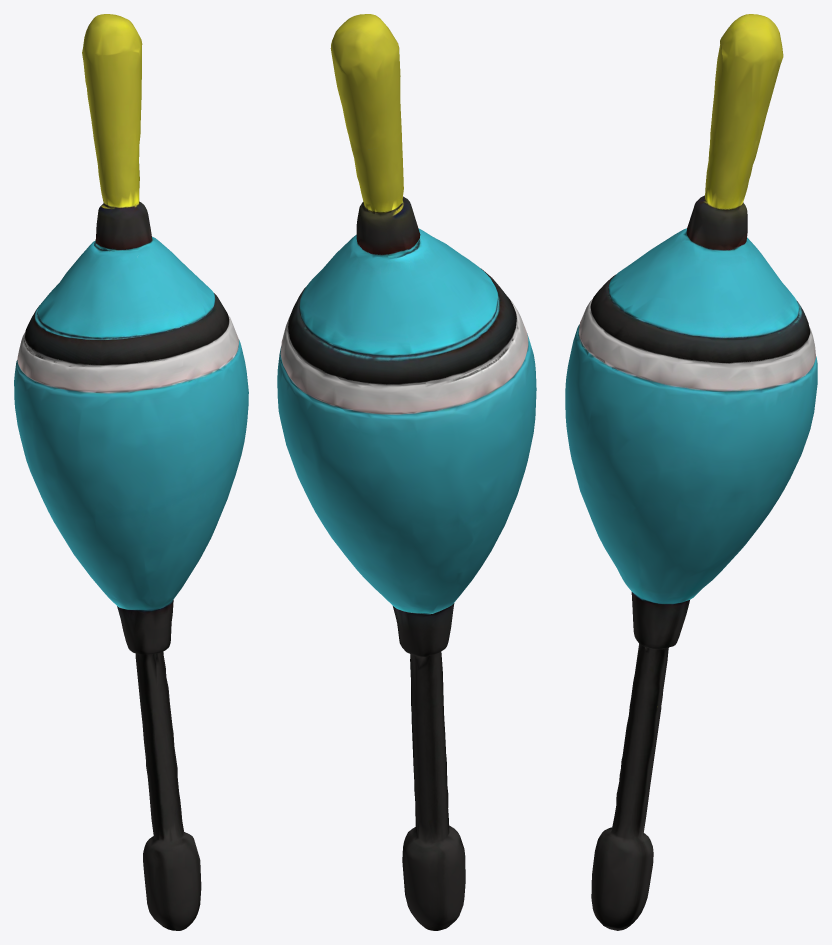
The model's file is gear-float4.glb.
The picture shows the model from 3 angles, left to right: view 1: azimuth 30°, elevation 25°; view 2: azimuth 150°, elevation 25°; view 3: azimuth 270°, elevation 25°; orthographic projection. The views are drawn at different scales.
Visible parts, largest first — view 1: tripo_node_2fb8a3b4-de45-423d-a415-f4b90aab92ae; view 2: tripo_node_2fb8a3b4-de45-423d-a415-f4b90aab92ae; view 3: tripo_node_2fb8a3b4-de45-423d-a415-f4b90aab92ae.
Part boxes in pixels (left/top/right/bottom): tripo_node_2fb8a3b4-de45-423d-a415-f4b90aab92ae: left=14, top=14, right=248, bottom=930; tripo_node_2fb8a3b4-de45-423d-a415-f4b90aab92ae: left=277, top=14, right=536, bottom=930; tripo_node_2fb8a3b4-de45-423d-a415-f4b90aab92ae: left=565, top=14, right=817, bottom=930.
Size of the model in its own units: 0.2435 by 1 by 0.2513.
Materials: 1 (1 with a texture image).
